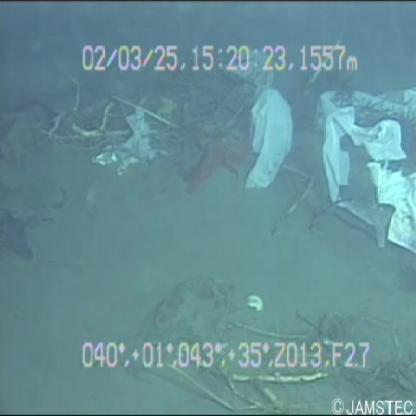Rác: (309, 73, 416, 260), (202, 42, 295, 200)
